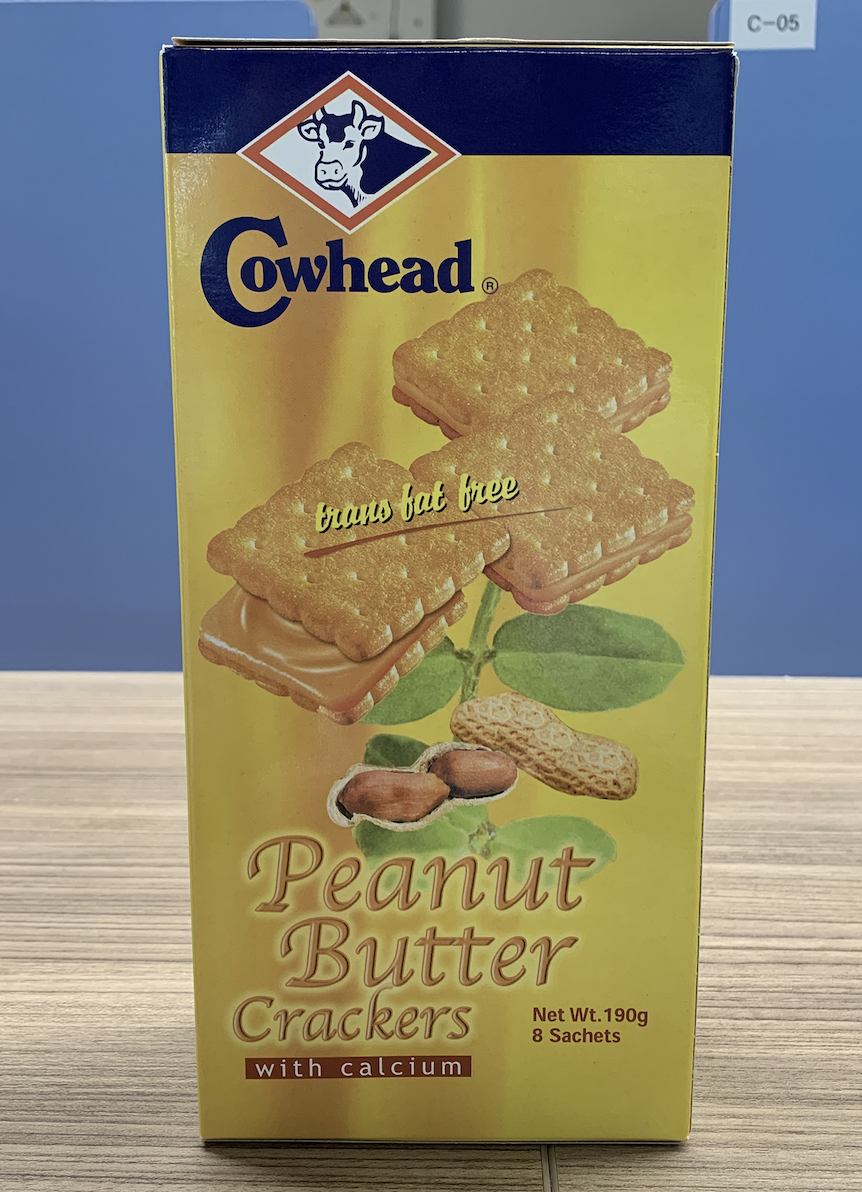crackers_150g: (193, 64, 685, 1107)
